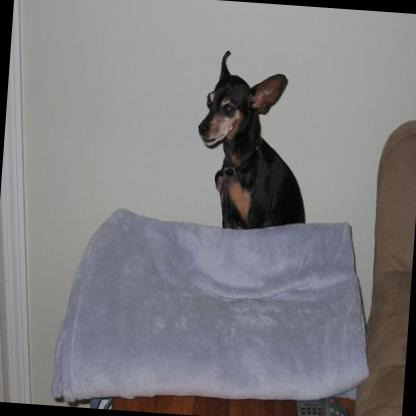miniature_pinscher: (190, 44, 318, 233)
